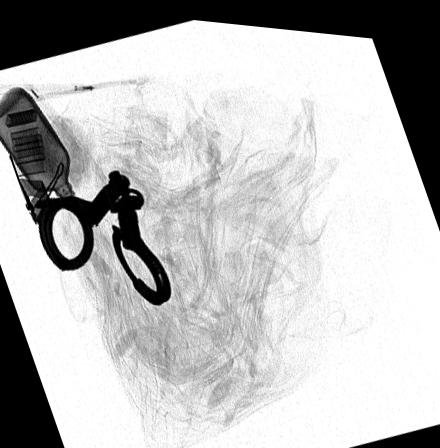HandCuffs: (33, 166, 172, 303)
